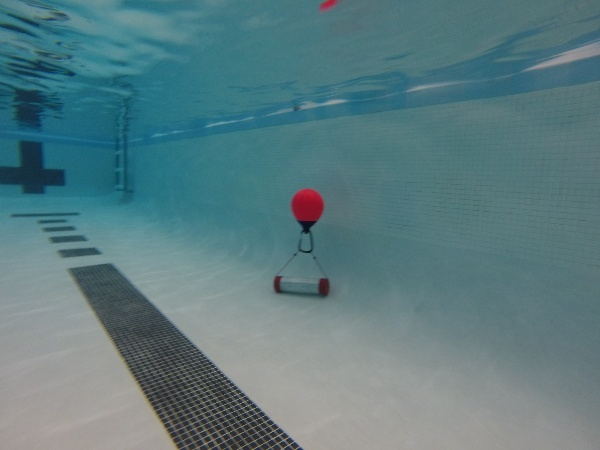buoy_red: (287, 189, 326, 234)
